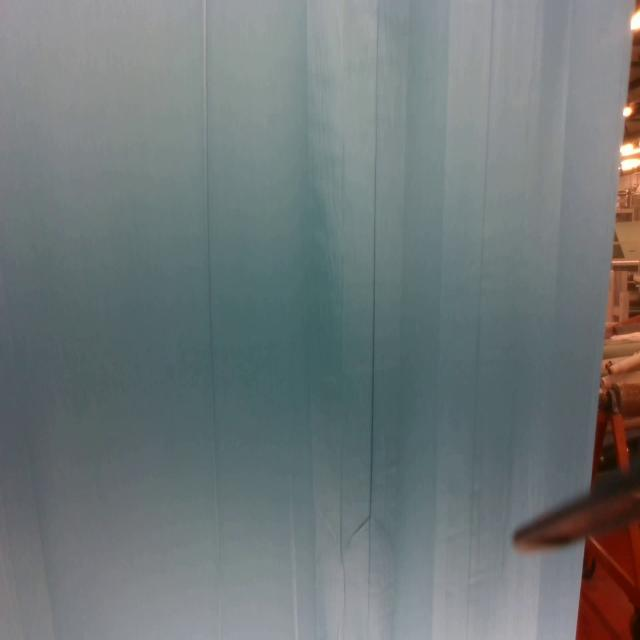crease: (464, 0, 495, 639), (200, 0, 221, 561), (362, 0, 380, 638), (336, 3, 349, 614), (289, 495, 298, 640)
